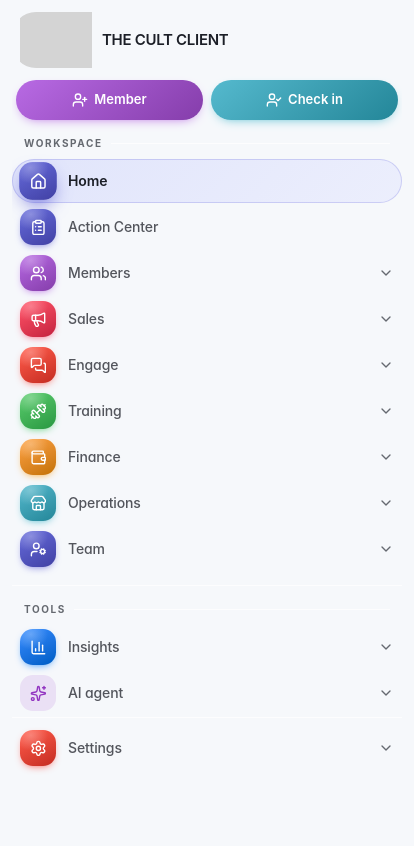
Test: SidebarNav › keeps one group open at a time: opening another closes the one before
Click the button "Members" at (38, 273), box [12, 251, 402, 295]
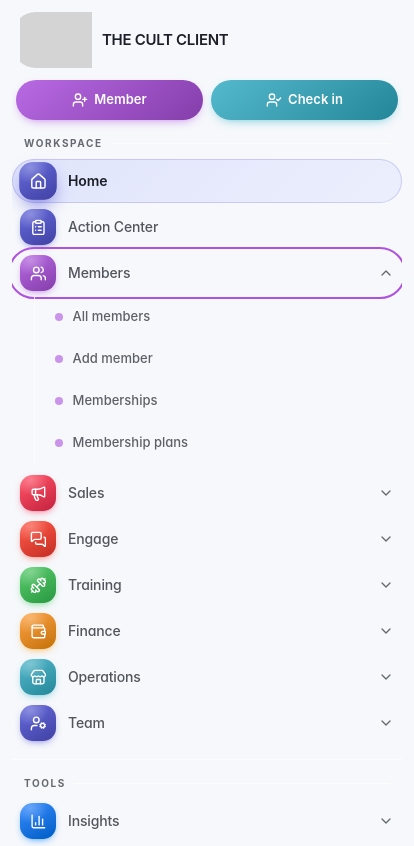
expect the button "Members" is expanded: met, box [12, 251, 402, 295]
Click the button "Sales" at (38, 493), box [12, 471, 402, 515]
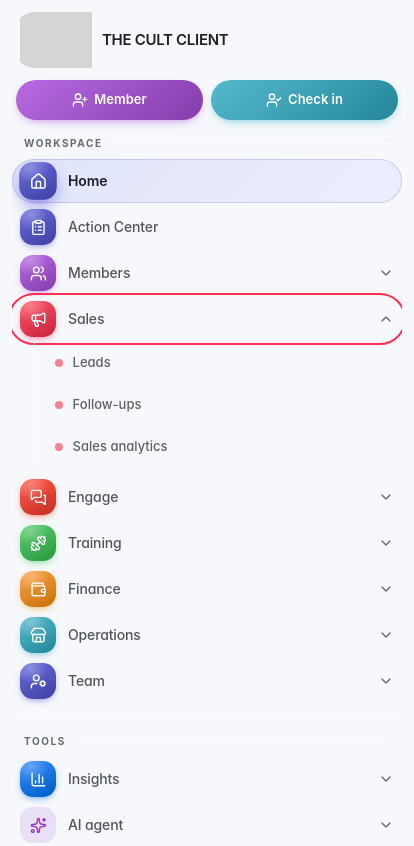
expect the button "Sales" is expanded: met
expect the button "Members" is collapsed: met, box [12, 251, 402, 295]
Note: Tapping the open one closes it, leaving none open.
Click the button "Sales" at (38, 319), box [12, 297, 402, 341]
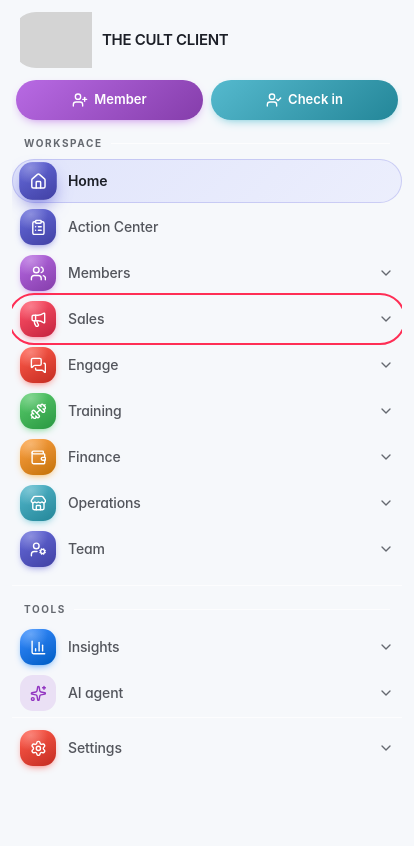
expect the button "Members" is collapsed: met, box [12, 251, 402, 295]
expect the button "Sales" is collapsed: met, box [12, 297, 402, 341]
